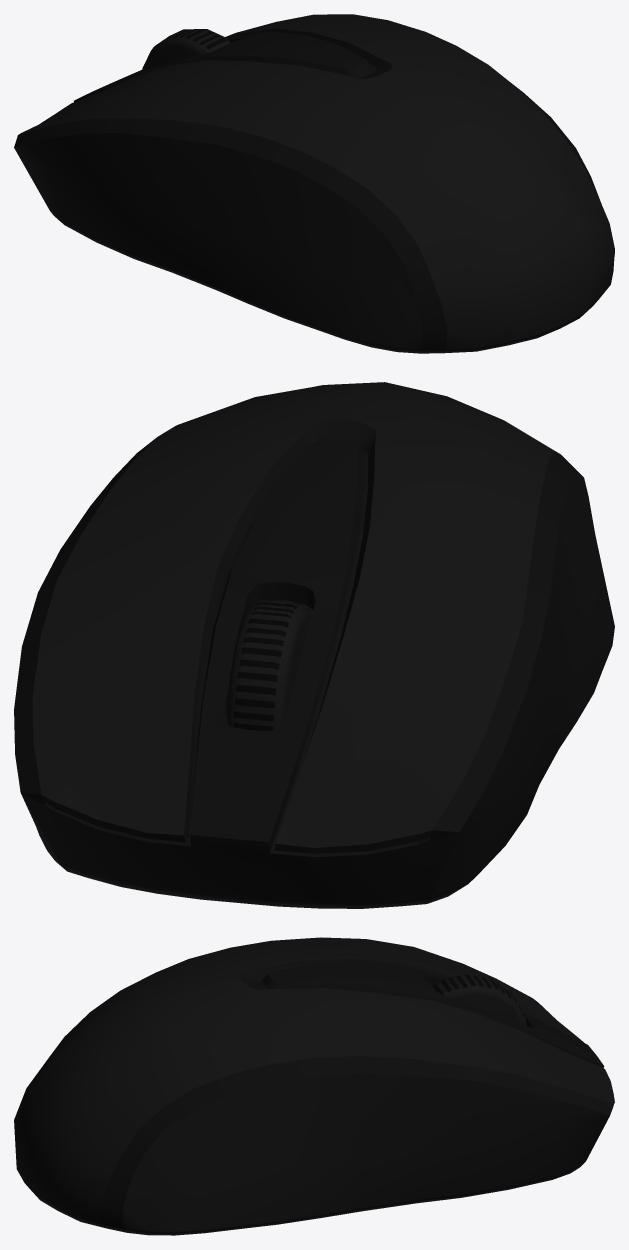
Rendered from mouse.fbx.
3 views of the same model, one above another, from view 1: azimuth 30°, elevation 25°; view 2: azimuth 150°, elevation 25°; view 3: azimuth 270°, elevation 25° (orthographic). The views are drawn at different scales.
Parts seen in each view (by area): view 1: model_1; view 2: model_1; view 3: model_1.
Boxes of the visible parts, <box> form: model_1: <box>14,14,614,353</box>; model_1: <box>14,382,614,908</box>; model_1: <box>14,937,614,1235</box>.
Size of the model in its own units: 19.7 by 9.04 by 27.48.
